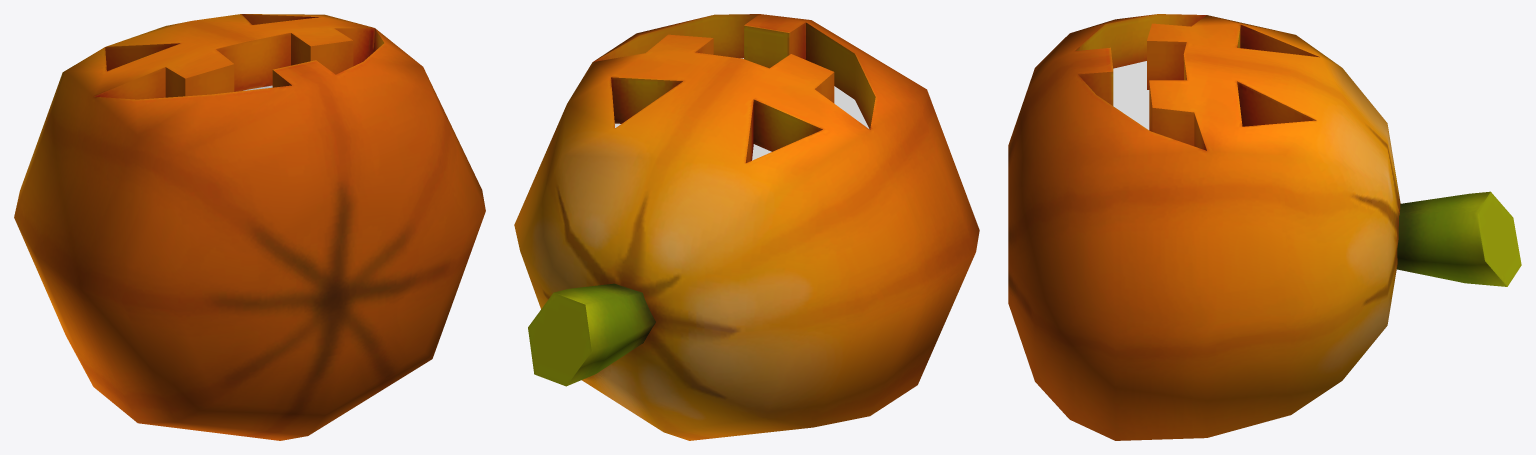
The model's file is PumpkinStandard.fbx.
3 renders of one model, left to right at view 1: azimuth 30°, elevation 25°; view 2: azimuth 150°, elevation 25°; view 3: azimuth 270°, elevation 25°, orthographic.
Parts seen in each view (by area): view 1: PumpkinStandardShell; view 2: PumpkinStandardShell, PumpkinStandardInterior; view 3: PumpkinStandardShell, PumpkinStandardInterior.
Boxes of the visible parts, x1,y1,x2,y2 form: PumpkinStandardShell: [14, 14, 485, 440]; PumpkinStandardShell: [514, 14, 979, 440]; PumpkinStandardInterior: [615, 58, 869, 160]; PumpkinStandardShell: [1008, 14, 1521, 440]; PumpkinStandardInterior: [1113, 61, 1149, 129].
Bounding box in the file's own units: 40.8 × 36.27 × 45.45.
